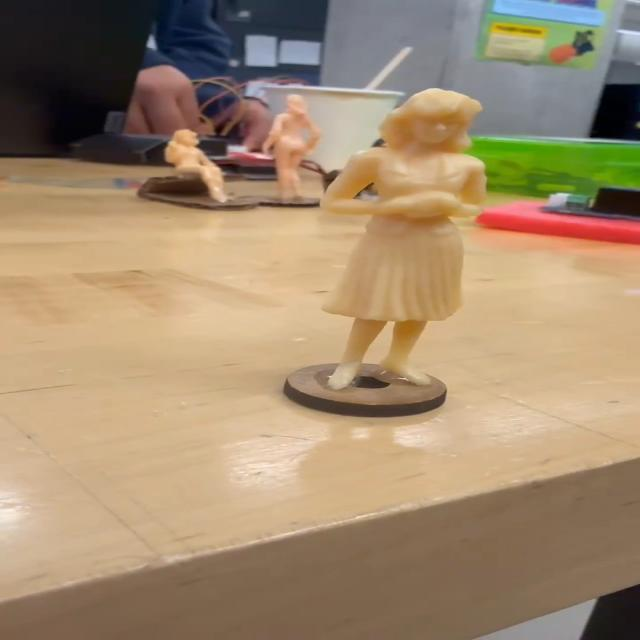Unauthorized: (304, 72, 484, 408)
